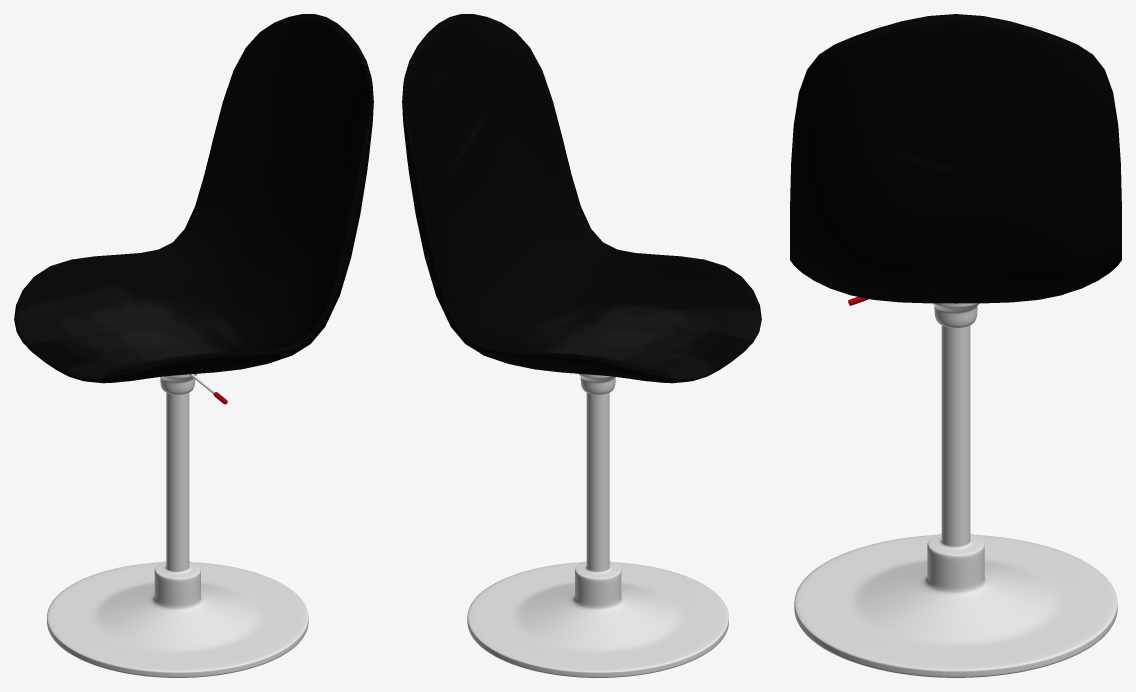
Rendered from bar_chair.glb.
3 views of the same model, side by side, from view 1: azimuth 30°, elevation 25°; view 2: azimuth 150°, elevation 25°; view 3: azimuth 270°, elevation 25° (orthographic). The views are drawn at different scales.
Visible parts, largest first — view 1: Plane.001_2, Circle_0; view 2: Plane.001_2, Circle_0; view 3: Plane.001_2, Circle_0.
Boxes of the visible parts, x1,y1,x2,y2 form: Plane.001_2: [14, 14, 373, 383]; Circle_0: [47, 373, 308, 677]; Plane.001_2: [402, 14, 761, 383]; Circle_0: [467, 373, 728, 677]; Plane.001_2: [790, 14, 1121, 303]; Circle_0: [794, 303, 1117, 677].
Bounding box in the file's own units: 2.6 × 4.71 × 2.04.
Materials: 5 (1 with a texture image).
